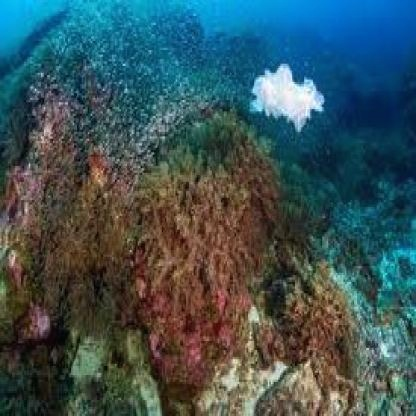pbag: (247, 59, 326, 139)
